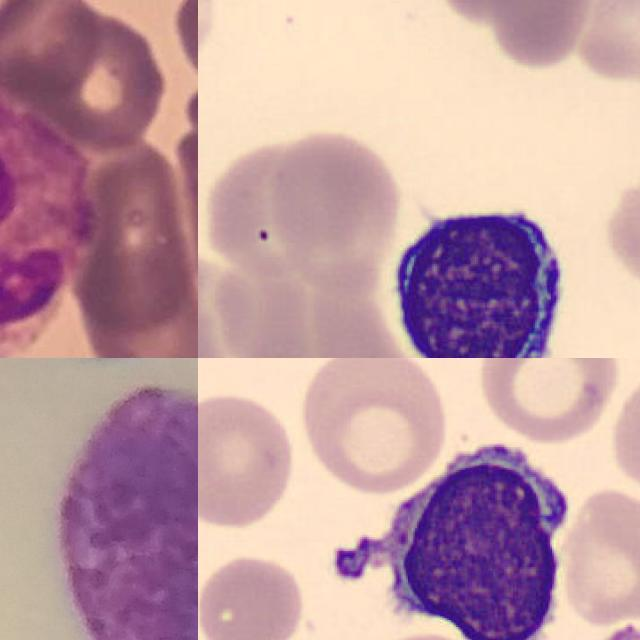Basophil: (58, 382, 198, 640)
Lymphocyte: (319, 427, 578, 640), (382, 189, 577, 358)
Neutrophil: (0, 49, 98, 358)
Platelets: (596, 623, 640, 640)
RBC: (294, 358, 450, 496), (265, 125, 405, 261), (198, 387, 299, 531), (473, 358, 623, 443), (555, 484, 640, 630), (198, 551, 308, 640), (462, 0, 608, 65), (597, 158, 640, 295), (570, 0, 640, 84), (607, 371, 640, 501), (198, 0, 224, 73)
